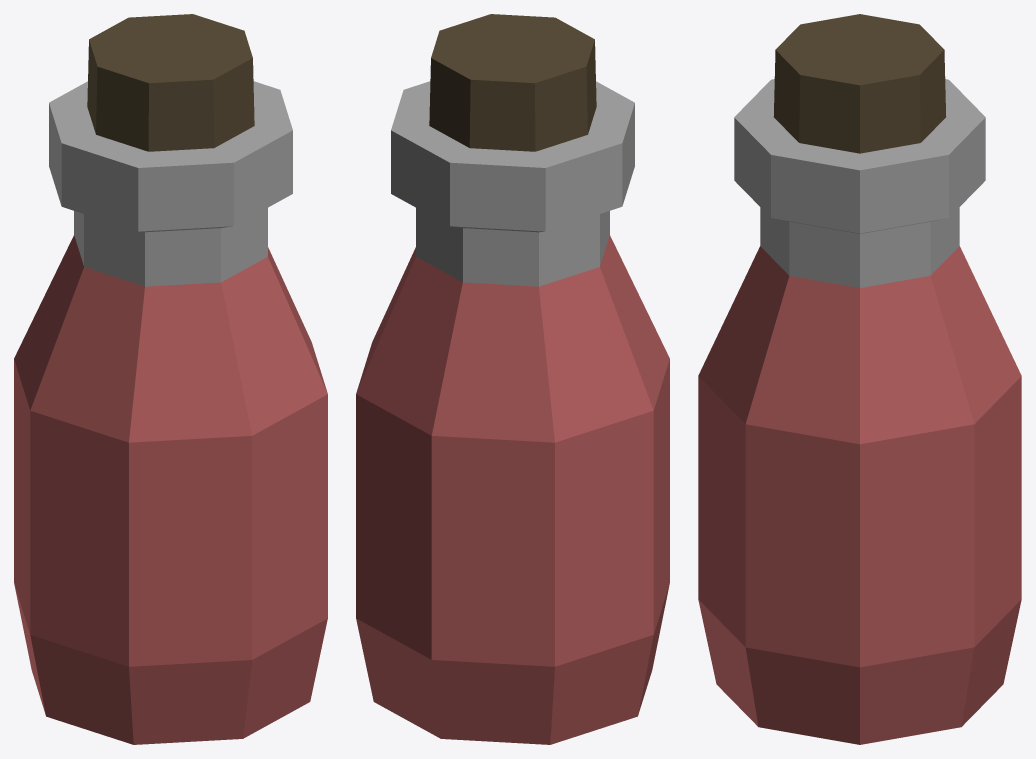
File: HP_Greater Potion.fbx
The picture shows the model from 3 angles, left to right: view 1: azimuth 30°, elevation 25°; view 2: azimuth 150°, elevation 25°; view 3: azimuth 270°, elevation 25°; orthographic projection.
Visible parts, largest first — view 1: pasted__polySurface16; view 2: pasted__polySurface16; view 3: pasted__polySurface16.
Boxes of the visible parts, <box> form: pasted__polySurface16: <box>14,14,327,744</box>; pasted__polySurface16: <box>356,14,669,744</box>; pasted__polySurface16: <box>698,14,1021,744</box>.
Size of the model in its own units: 47.6 by 103 by 47.6.
